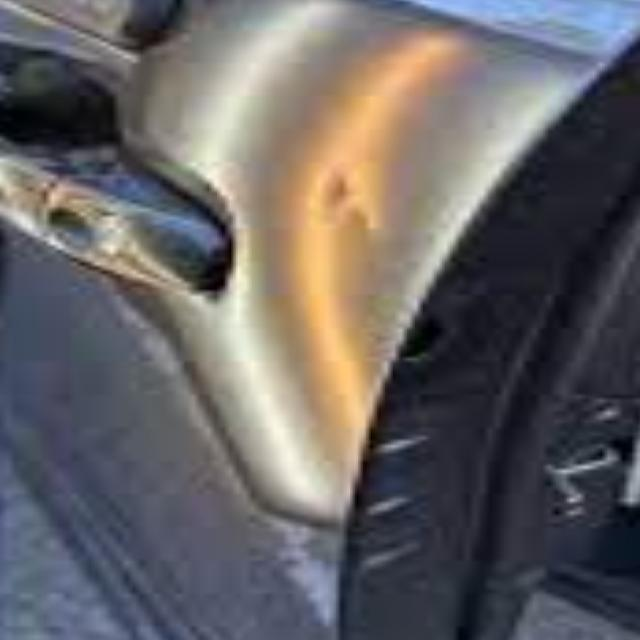dents: (302, 169, 452, 256)
